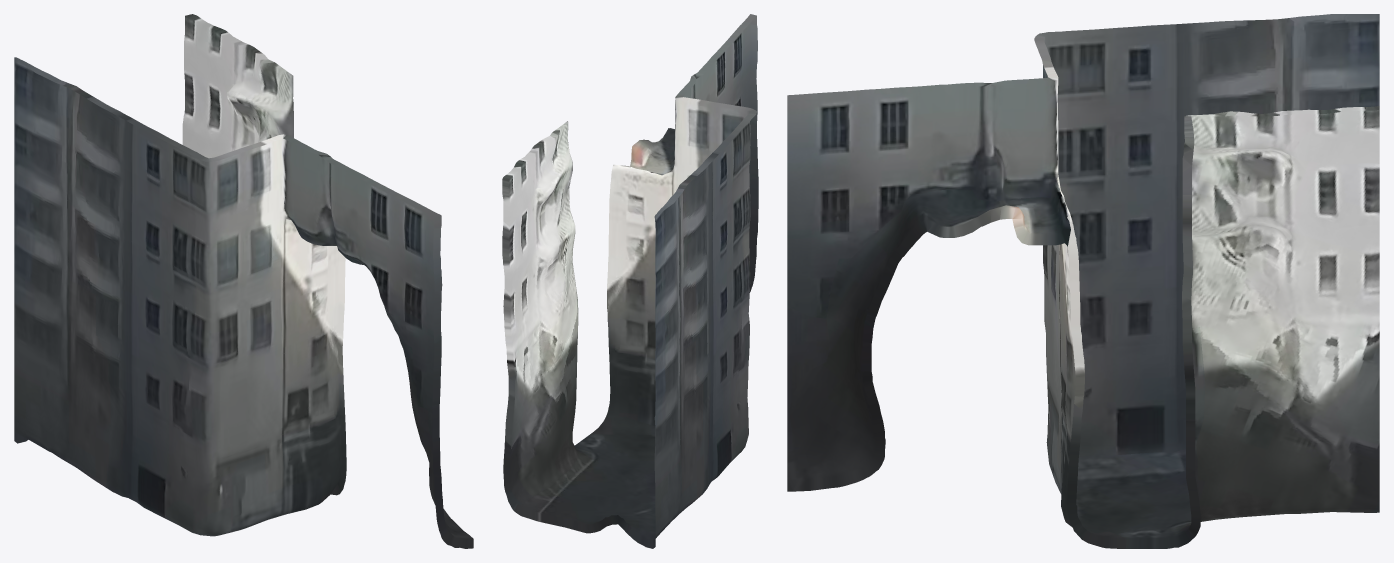
File: z20-167758-405240-h0-yup-uvflip-v3-world.glb
3 renders of one model, left to right at view 1: azimuth 30°, elevation 25°; view 2: azimuth 150°, elevation 25°; view 3: azimuth 270°, elevation 25°, orthographic. The views are drawn at different scales.
Bounding box in the file's own units: 12.4 × 24.44 × 30.32.
1 material, 1 textured.
